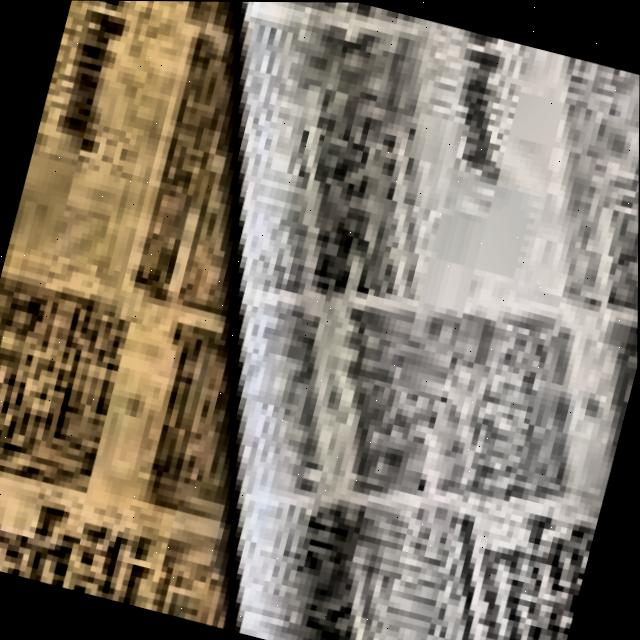paper: (224, 1, 640, 640), (0, 0, 247, 632)
